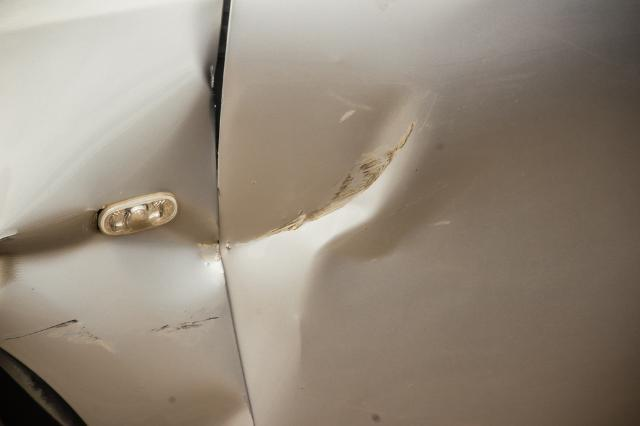dent: (0, 0, 251, 426), (222, 52, 448, 365)
